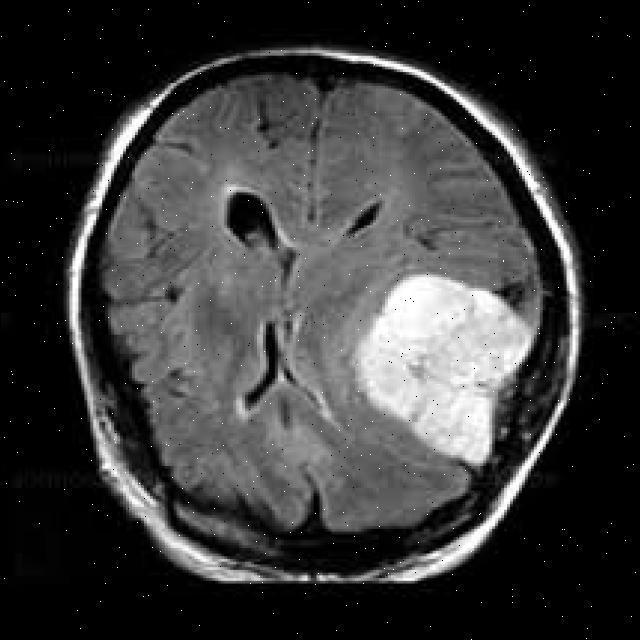Meningioma: (359, 277, 530, 464)
